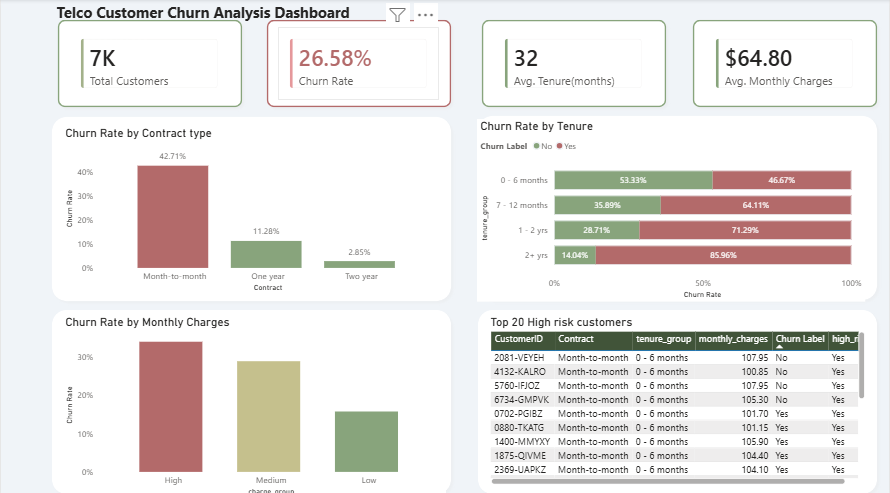

The page's visual inventory and layout, read from the dashboard file:
{"tool":"powerbi","page":{"name":"Page 1","canvas":[1280,720],"ordinal":0},"visuals":[{"type":"shape","box":[74.9,23,279.4,139.7],"z":0},{"type":"shape","box":[375.8,23,279.4,139.7],"z":1000},{"type":"shape","box":[685.4,23,279.4,139.7],"z":2000},{"type":"shape","box":[989.3,23,279.4,139.7],"z":3000},{"type":"shape","box":[66.2,162.7,589,279.4],"z":4000},{"type":"shape","box":[679.7,440.6,589,279.4],"z":5000},{"type":"shape","box":[66.2,440.6,589,279.4],"z":6000},{"type":"shape","box":[679.7,161.3,589,279.4],"z":7000},{"type":"cardVisual","fields":{"Data":["telco_churn churn_analysis.Total Customers Count"]},"box":[97.9,40.3,231.8,105.1],"z":8000},{"type":"cardVisual","fields":{"Data":["telco_churn churn_analysis.Avg Monthly Charges"]},"box":[1012.3,40.3,231.8,105.1],"z":9000},{"type":"cardVisual","fields":{"Data":["telco_churn churn_analysis.Average Tenure"]},"box":[708.5,40.3,231.8,105.1],"z":10000},{"type":"cardVisual","fields":{"Data":["telco_churn churn_analysis.Churn Rate %"]},"box":[398.9,40.3,231.8,105.1],"z":11000},{"type":"clusteredColumnChart","title":"Churn Rate by Contract type","fields":{"Category":["telco_churn churn_analysis.Contract"],"Y":["telco_churn churn_analysis.Churn Rate"]},"box":[87.8,183.3,543.7,243.4],"z":12000},{"type":"hundredPercentStackedBarChart","title":"Churn Rate by Tenure","fields":{"Y":["telco_churn churn_analysis.Churn Rate"],"Series":["telco_churn churn_analysis.Churn Label"],"Category":["telco_churn churn_analysis.tenure_group"]},"box":[685.4,172.5,559.1,263.4],"z":13000},{"type":"clusteredColumnChart","title":"Churn Rate by Monthly Charges","fields":{"Y":["telco_churn churn_analysis.Churn Rate"],"Category":["telco_churn churn_analysis.charge_group"]},"box":[87.8,454.4,553,264.9],"z":14000},{"type":"tableEx","title":"Top 20 High risk customers","fields":{"Values":["telco_churn churn_analysis.CustomerID","telco_churn churn_analysis.Contract","telco_churn churn_analysis.tenure_group","telco_churn churn_analysis.monthly_charges","telco_churn churn_analysis.Churn Label","telco_churn churn_analysis.high_risk"]},"box":[699.8,455,548.6,249.1],"z":15000}]}

Visuals, with their boxes in screenshot pixels (x1, y1, x2, y2), scaled from the page's 1280x720 canvas onto the 890x493 screenshot:
shape: (52, 16, 246, 111)
shape: (261, 16, 456, 111)
shape: (477, 16, 671, 111)
shape: (688, 16, 882, 111)
shape: (46, 111, 456, 303)
shape: (473, 302, 882, 492)
shape: (46, 302, 456, 492)
shape: (473, 110, 882, 302)
cardVisual - telco_churn churn_analysis.Total Customers Count: (68, 28, 229, 100)
cardVisual - telco_churn churn_analysis.Avg Monthly Charges: (704, 28, 865, 100)
cardVisual - telco_churn churn_analysis.Average Tenure: (493, 28, 654, 100)
cardVisual - telco_churn churn_analysis.Churn Rate %: (277, 28, 439, 100)
"Churn Rate by Contract type" clusteredColumnChart: (61, 126, 439, 292)
"Churn Rate by Tenure" hundredPercentStackedBarChart: (477, 118, 865, 298)
"Churn Rate by Monthly Charges" clusteredColumnChart: (61, 311, 446, 492)
"Top 20 High risk customers" tableEx: (487, 312, 868, 482)
